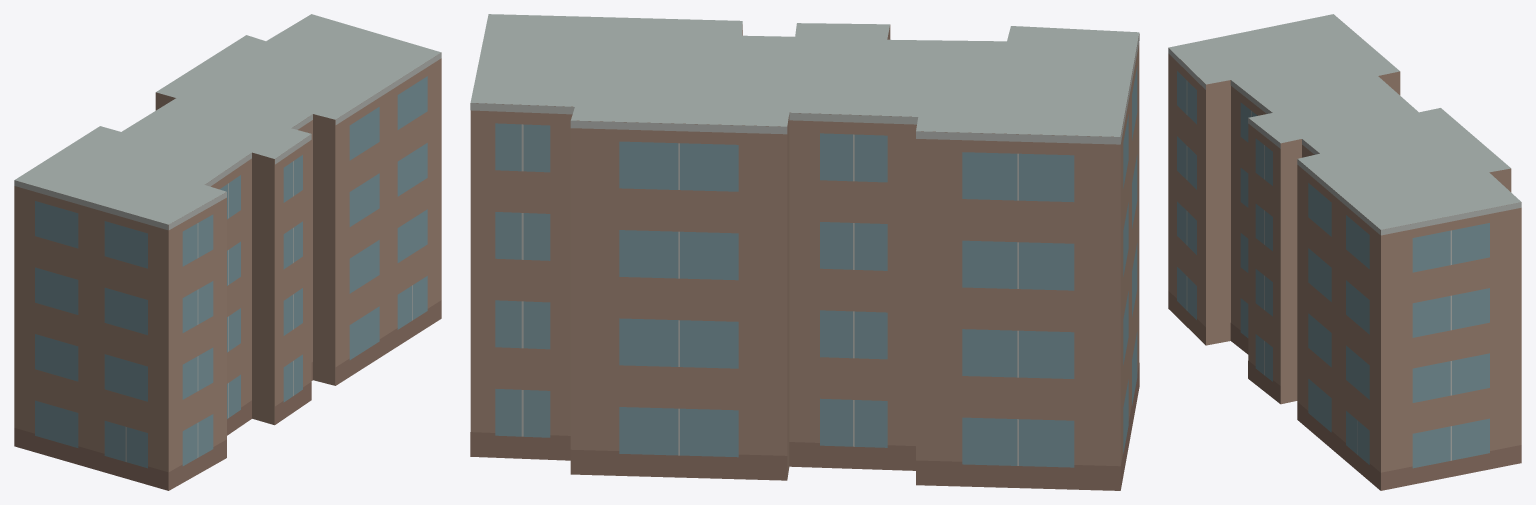
The model's file is survey-upis-32705738.glb.
3 renders of one model, left to right at view 1: azimuth 30°, elevation 25°; view 2: azimuth 150°, elevation 25°; view 3: azimuth 270°, elevation 25°, orthographic. The views are drawn at different scales.
Visible parts, largest first — view 1: survey-upis-32705738.tmp; view 2: survey-upis-32705738.tmp; view 3: survey-upis-32705738.tmp.
Boxes of the visible parts, left/top/right/bottom form: survey-upis-32705738.tmp: left=14, top=14, right=441, bottom=490; survey-upis-32705738.tmp: left=470, top=14, right=1139, bottom=490; survey-upis-32705738.tmp: left=1168, top=14, right=1521, bottom=490.
Bounding box in the file's own units: 20.06 × 11.3 × 13.88.
